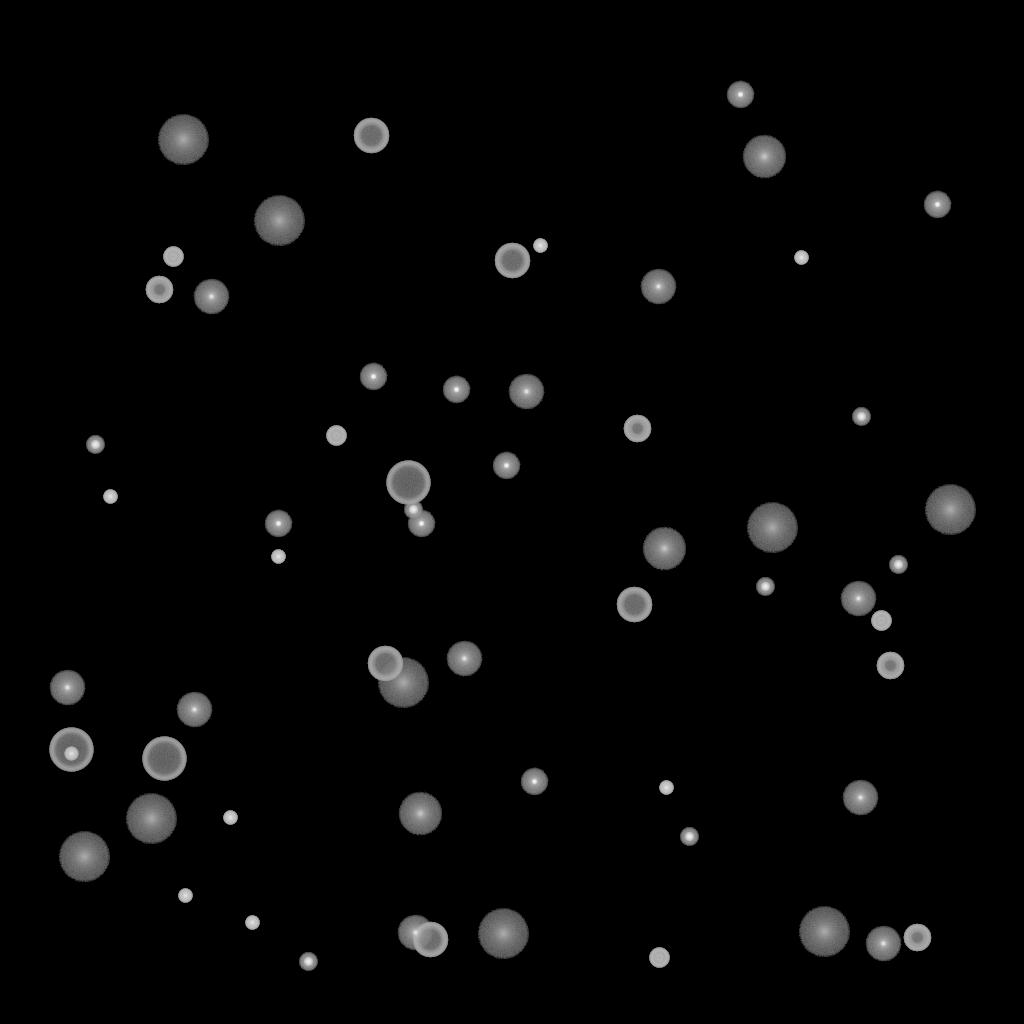depth:-10: (726, 81, 754, 109), (359, 363, 387, 391), (264, 510, 292, 538), (923, 191, 951, 219), (442, 376, 470, 404), (520, 768, 548, 796), (407, 510, 435, 538), (492, 452, 520, 480)
depth:-20: (889, 556, 907, 574), (299, 953, 317, 971), (756, 578, 774, 596), (680, 828, 698, 846), (86, 436, 104, 454), (852, 408, 870, 426), (404, 501, 422, 519)
depth:-30: (245, 916, 259, 930), (64, 747, 78, 761), (533, 239, 547, 253), (794, 251, 808, 265), (271, 550, 285, 564), (178, 889, 192, 903), (659, 781, 673, 795), (103, 490, 117, 504), (223, 811, 237, 825)
depth:-40: (163, 247, 183, 267), (649, 948, 669, 968), (871, 611, 891, 631), (326, 426, 346, 446)
depth:-50: (623, 415, 651, 443), (876, 652, 904, 680), (903, 924, 931, 952), (145, 276, 173, 304)
depth:-60: (353, 118, 389, 154), (412, 922, 448, 958), (494, 243, 530, 279), (367, 646, 403, 682), (616, 587, 652, 623)
depth:-70: (142, 737, 186, 781), (386, 461, 430, 505), (49, 728, 93, 772)
depth:0: (840, 581, 876, 617), (640, 269, 676, 305), (842, 780, 878, 816), (193, 279, 229, 315), (176, 692, 212, 728), (397, 915, 433, 951), (508, 374, 544, 410), (446, 641, 482, 677), (49, 670, 85, 706), (865, 926, 901, 962)
depth:10: (642, 527, 686, 571), (398, 792, 442, 836), (742, 135, 786, 179)
depth:20: (58, 832, 110, 882), (253, 196, 305, 246), (746, 503, 798, 553), (377, 658, 429, 708), (477, 909, 529, 959), (125, 794, 177, 844), (798, 907, 850, 957), (924, 485, 976, 535), (157, 115, 209, 165)
